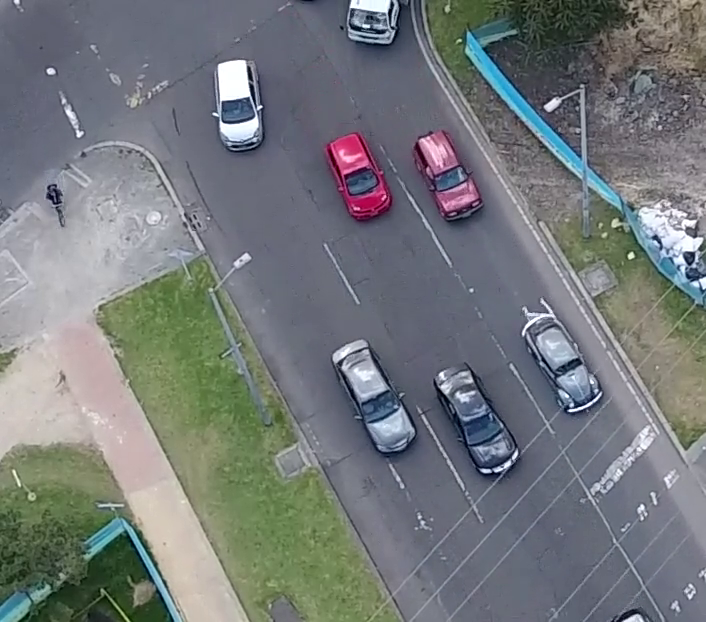car: (432, 360, 522, 479), (328, 337, 415, 459), (525, 312, 601, 418), (413, 128, 485, 224), (324, 133, 393, 223), (212, 58, 263, 151)
